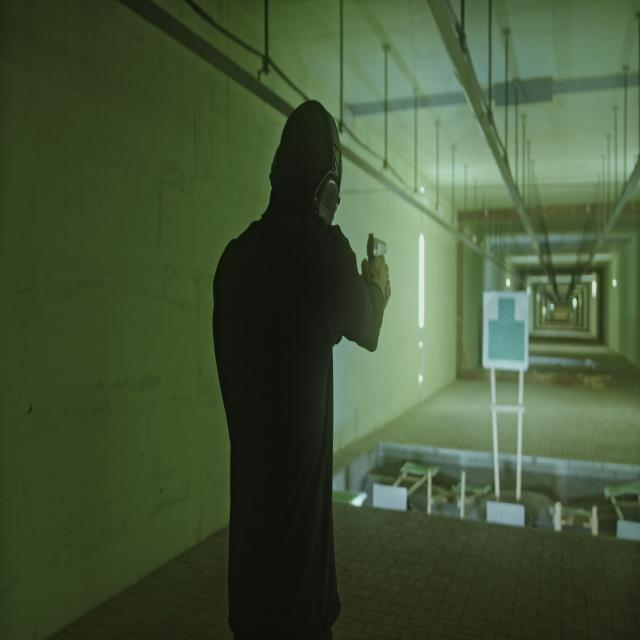Gun_Holder: (362, 225, 399, 306)
Person: (204, 95, 393, 640)
